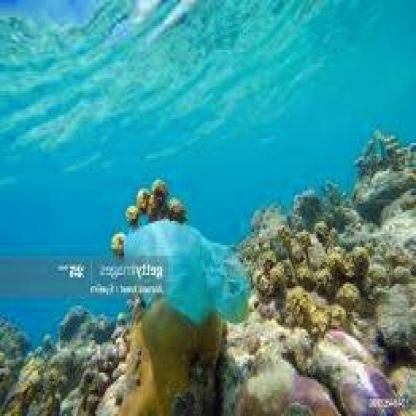pbag: (124, 219, 251, 327)
